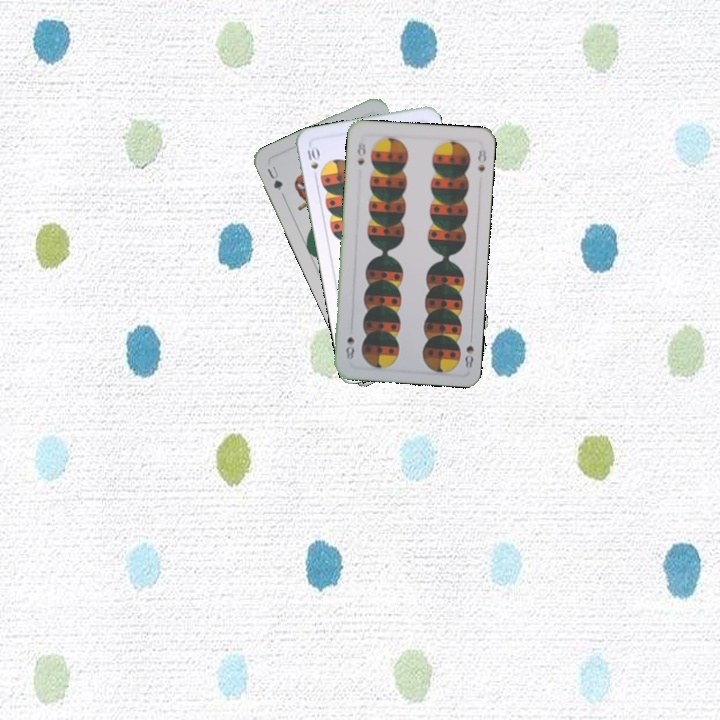GU: (263, 162, 285, 193)
S10: (303, 142, 321, 182)
S8: (461, 330, 476, 370), (353, 137, 368, 167)
